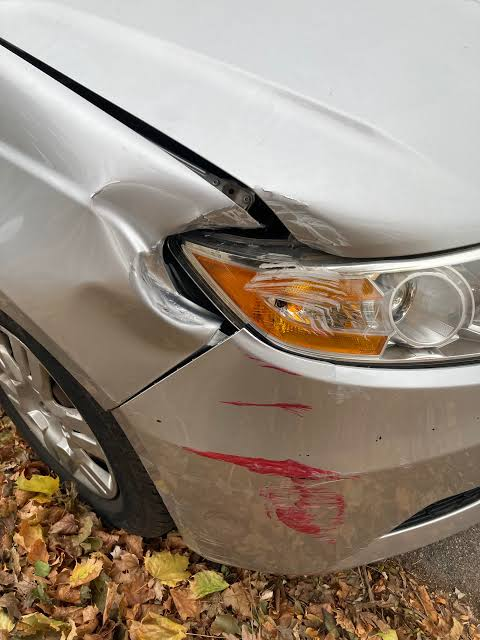fender-dent: (0, 128, 233, 392)
front-bumper-dent: (9, 321, 480, 585)
